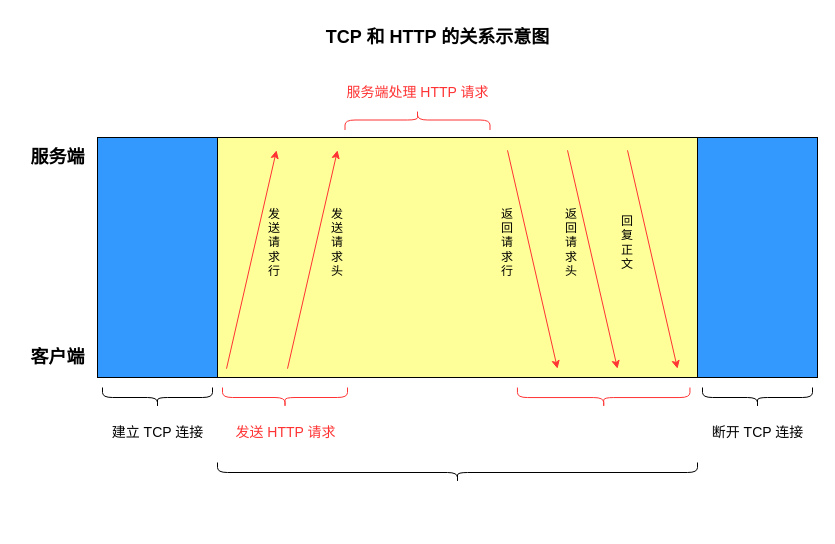
Some shapes in this 835 by 544 pixel diagram are drawn without their labels. Each missing label, with the box of its shape:
传输数据阶段: (216, 462, 698, 482)
服务端响应: (516, 387, 690, 408)
